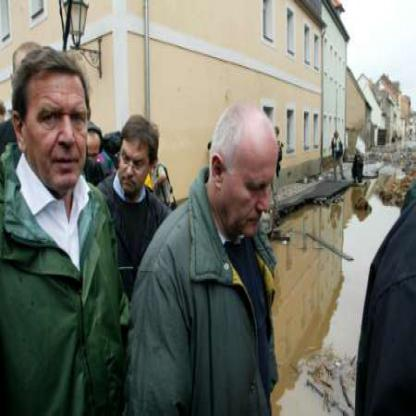face: (24, 57, 93, 194), (224, 118, 284, 243), (120, 124, 151, 197)
